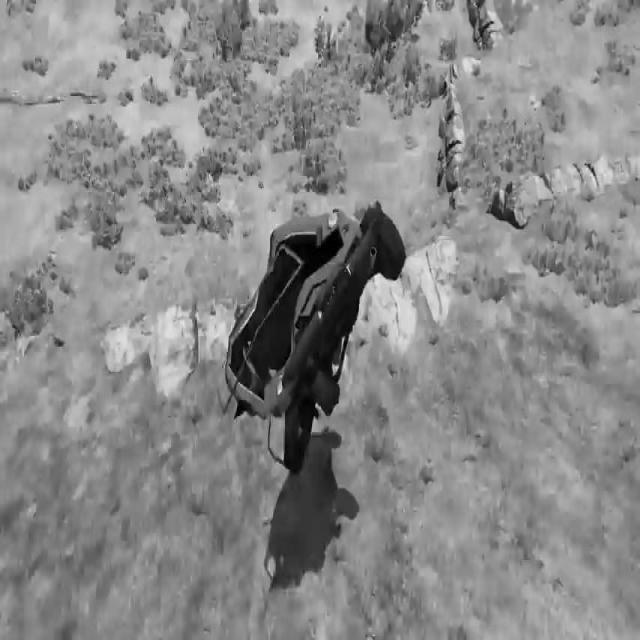accident: (214, 191, 402, 474)
